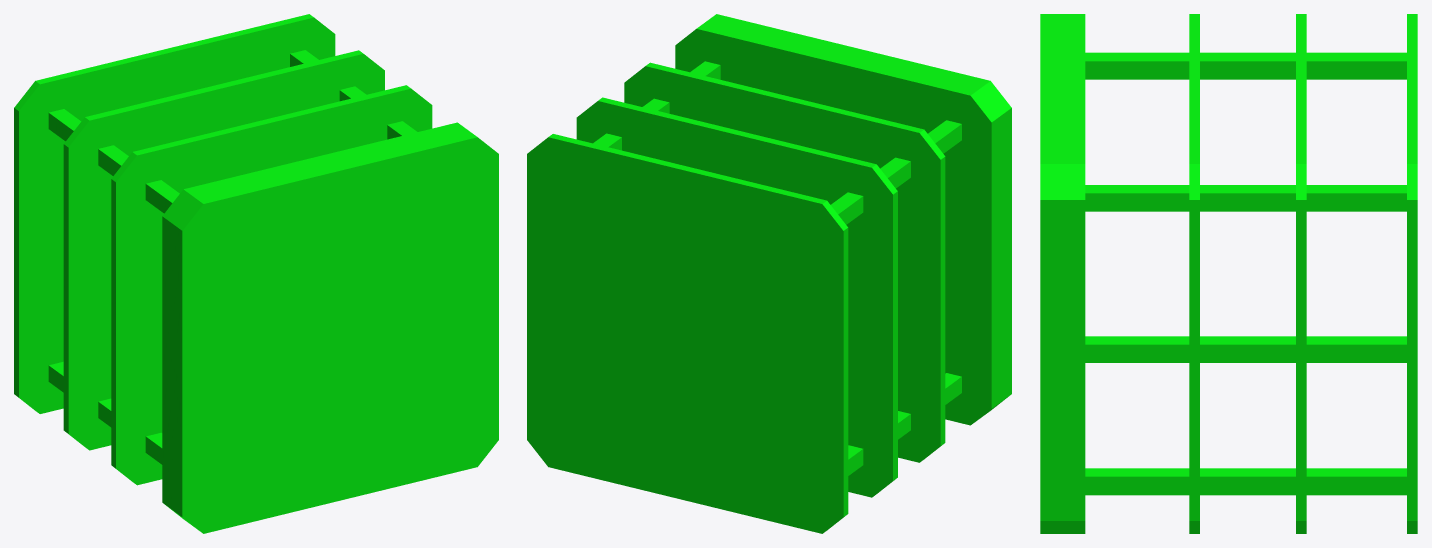
The model's file is SM_Tumba_01_Collider.fbx.
3 renders of one model, left to right at view 1: azimuth 30°, elevation 25°; view 2: azimuth 150°, elevation 25°; view 3: azimuth 270°, elevation 25°, orthographic. The views are drawn at different scales.
Visible parts, largest first — view 1: SM_Tumba_01_Collider; view 2: SM_Tumba_01_Collider; view 3: SM_Tumba_01_Collider.
Boxes of the visible parts, <box> form: SM_Tumba_01_Collider: <box>14,14,498,533</box>; SM_Tumba_01_Collider: <box>527,14,1011,533</box>; SM_Tumba_01_Collider: <box>1040,14,1417,533</box>.
Size of the model in its own units: 71.02 by 70.77 by 65.46.
